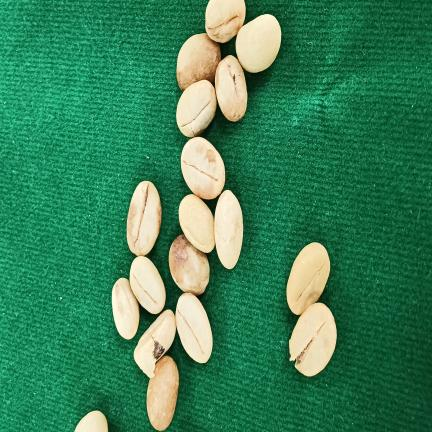parchment: (289, 303, 337, 376), (287, 243, 330, 315), (134, 310, 176, 378), (181, 137, 225, 200), (175, 293, 213, 363), (236, 14, 281, 73), (176, 33, 221, 91), (127, 181, 161, 256), (169, 234, 210, 295), (176, 80, 217, 138), (147, 356, 179, 430), (214, 190, 243, 269), (129, 256, 166, 314), (179, 194, 215, 253), (215, 55, 247, 121), (206, 0, 246, 42), (112, 278, 139, 339), (75, 410, 108, 432)
